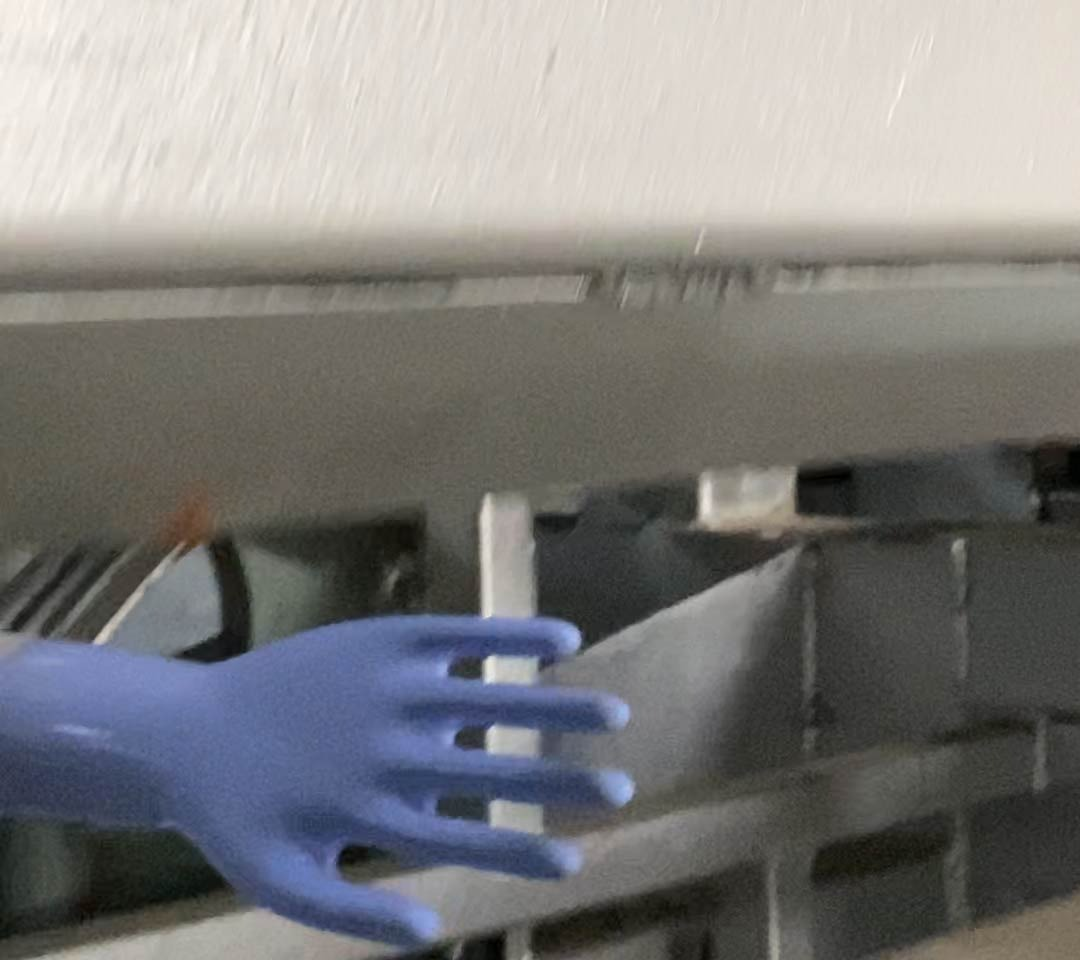glove: (3, 607, 641, 950)
